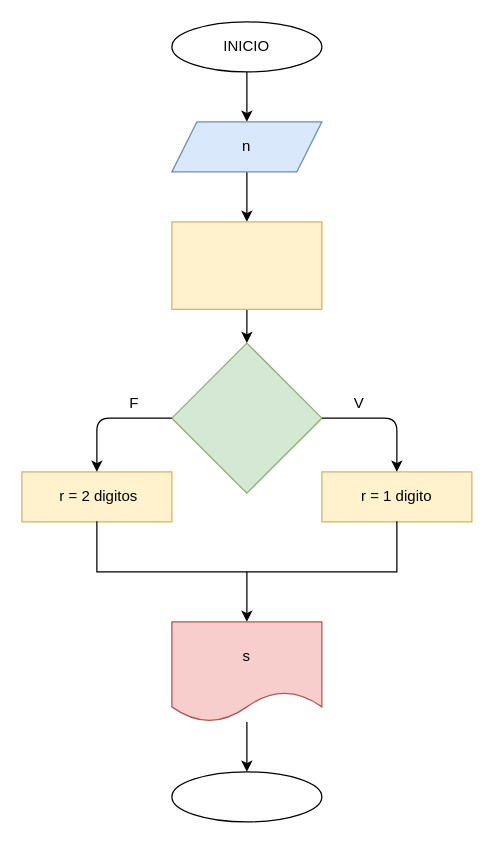
The diagram is 494 pixels wide and 844 high, and some of its shapes have lost their labels. The shapes that lost their labels are listed below. From the top down, each one's centre as x and y in pixels, then its label:
At point (246, 265): "c1 = n % 10 c2 = ((n % 100) - c1) // 10 s= c1 + c2".
At point (246, 417): "s < 10".
At point (246, 796): "FIN".
